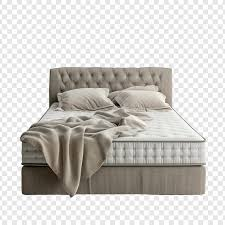bed-matress: (21, 96, 207, 164)
